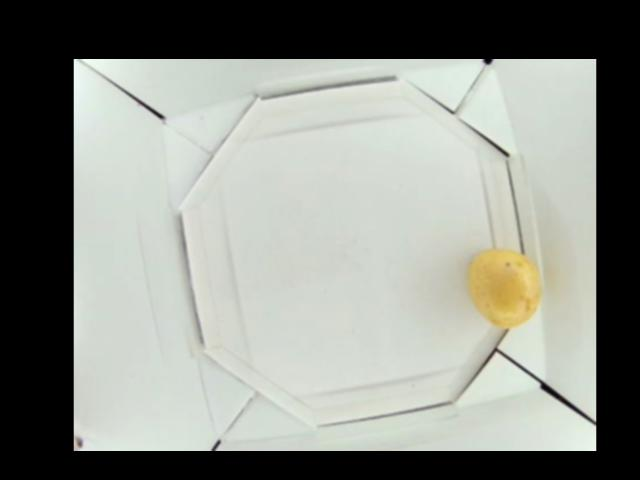Potato: (468, 245, 542, 330)
